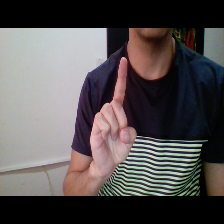2T: (84, 51, 145, 173)
